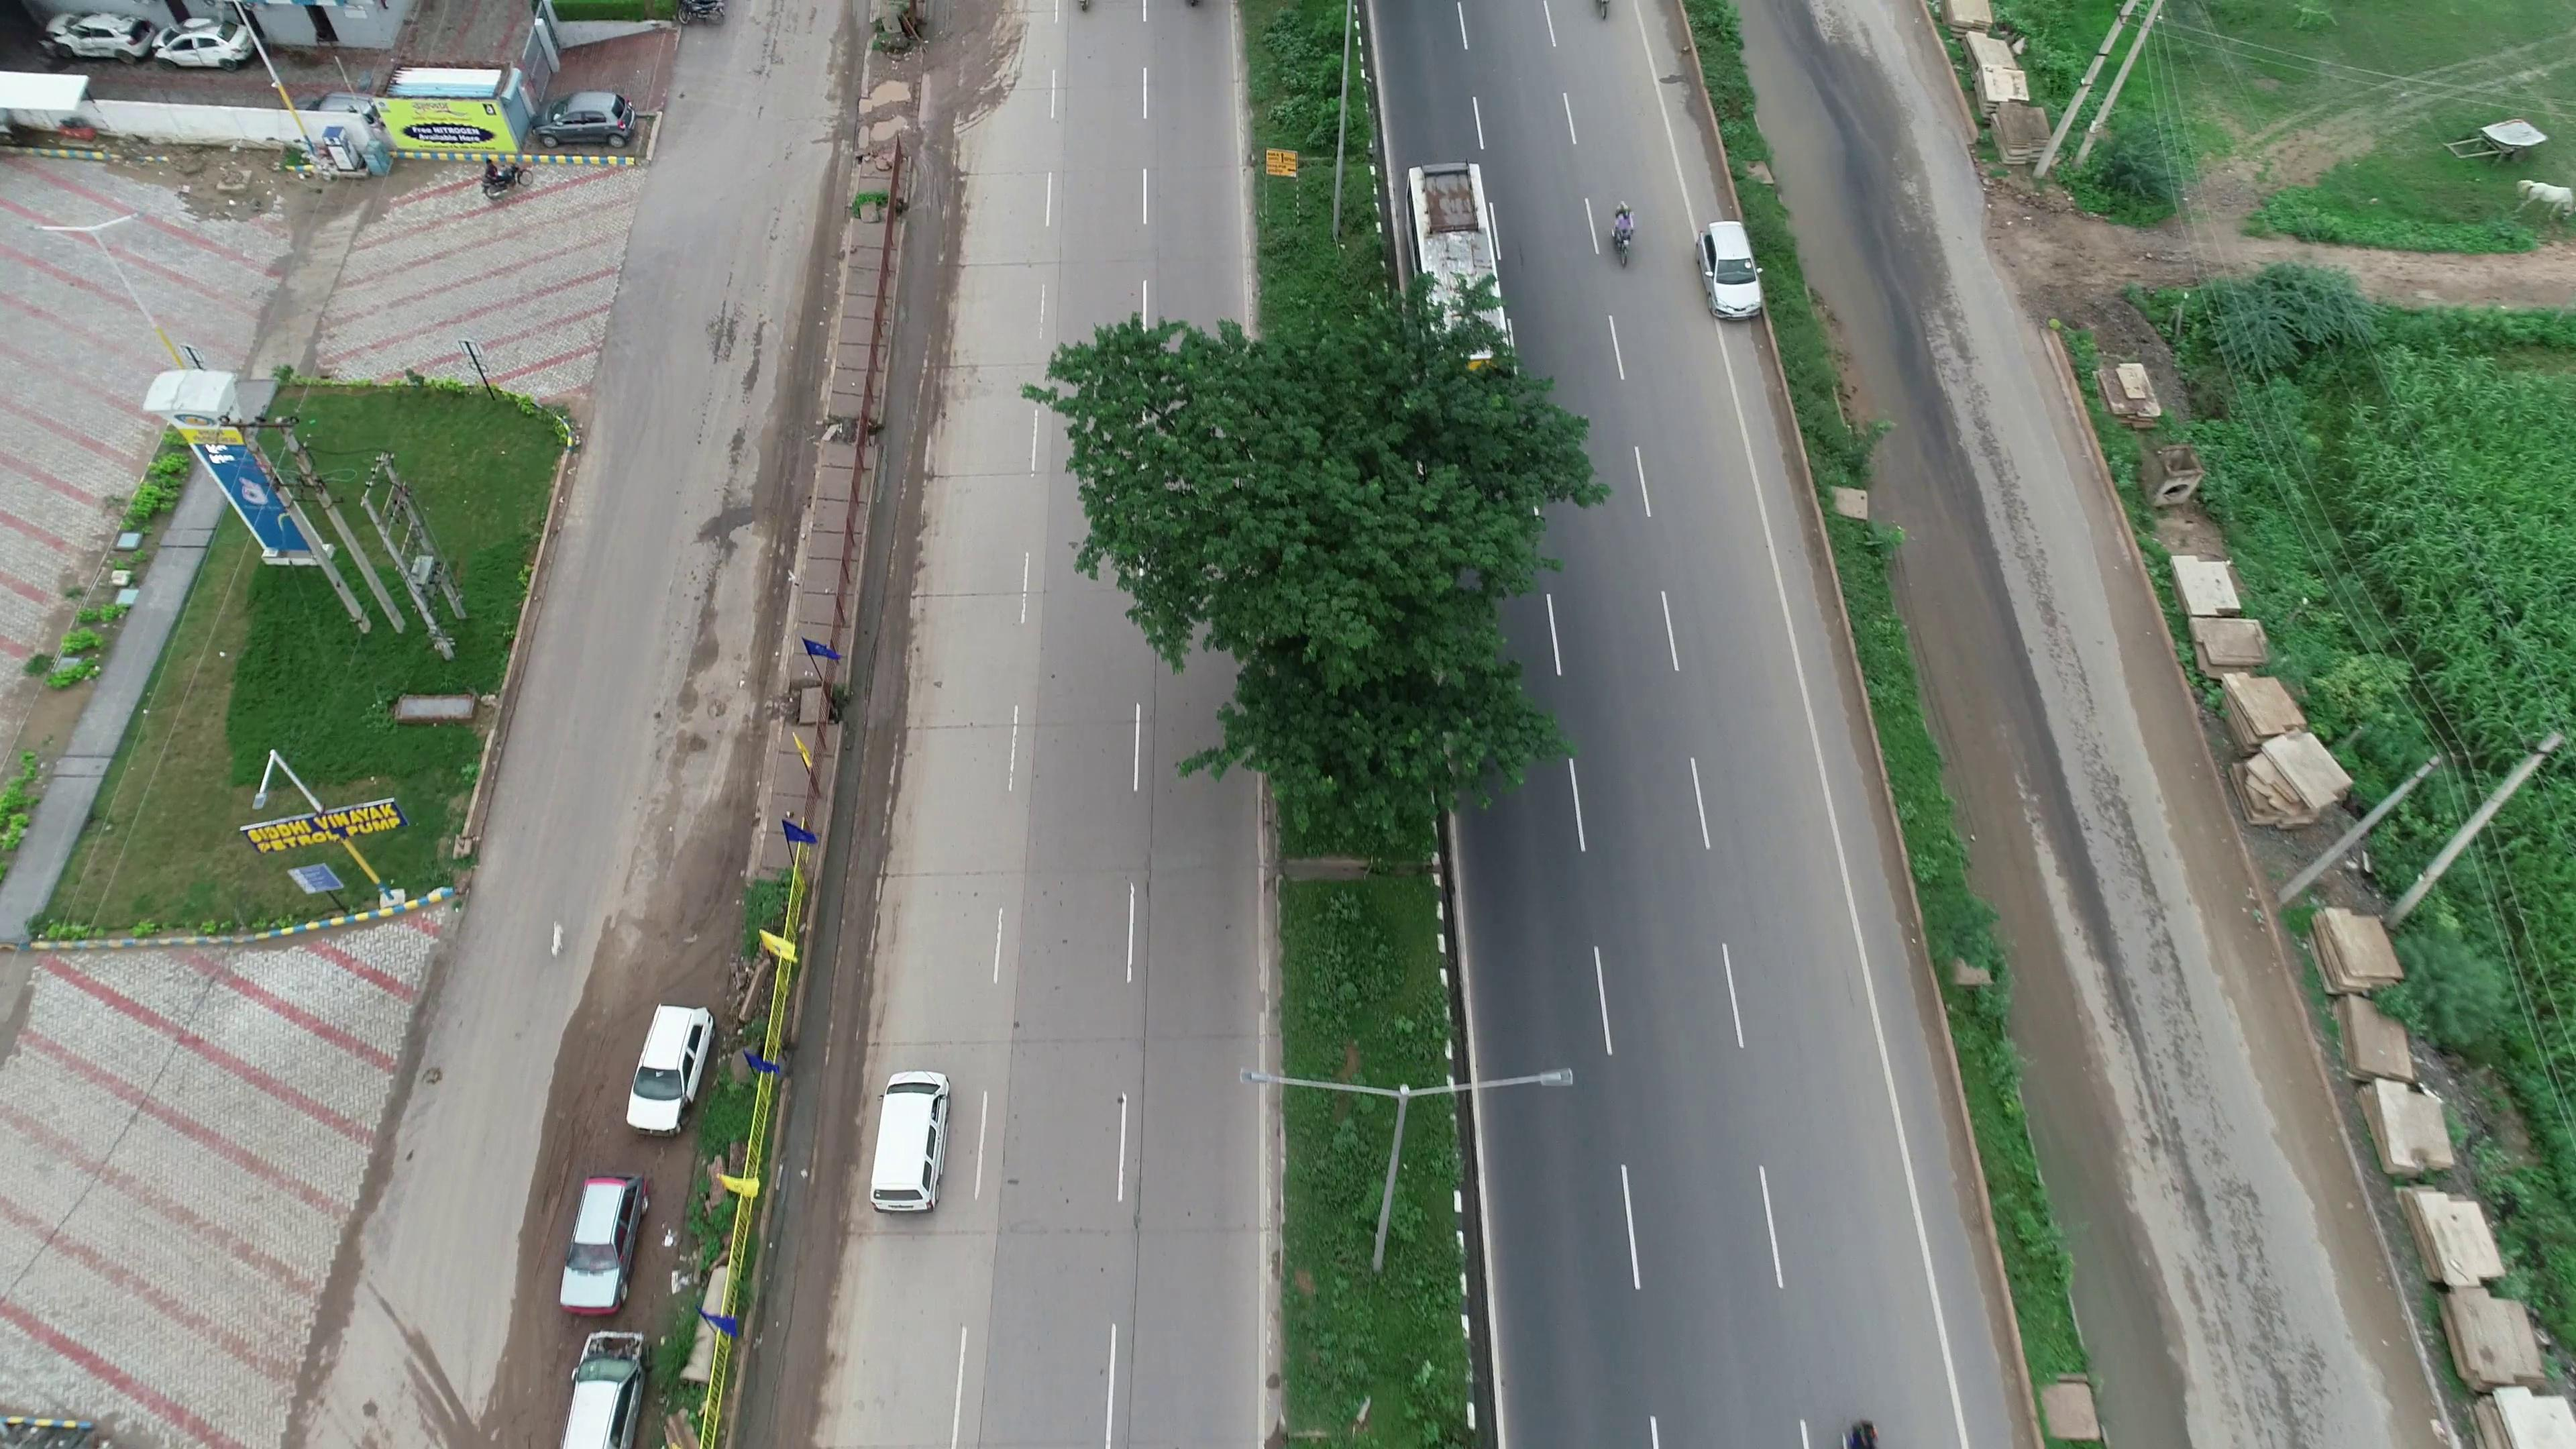Ravelling: (2074, 747, 2201, 1028)
